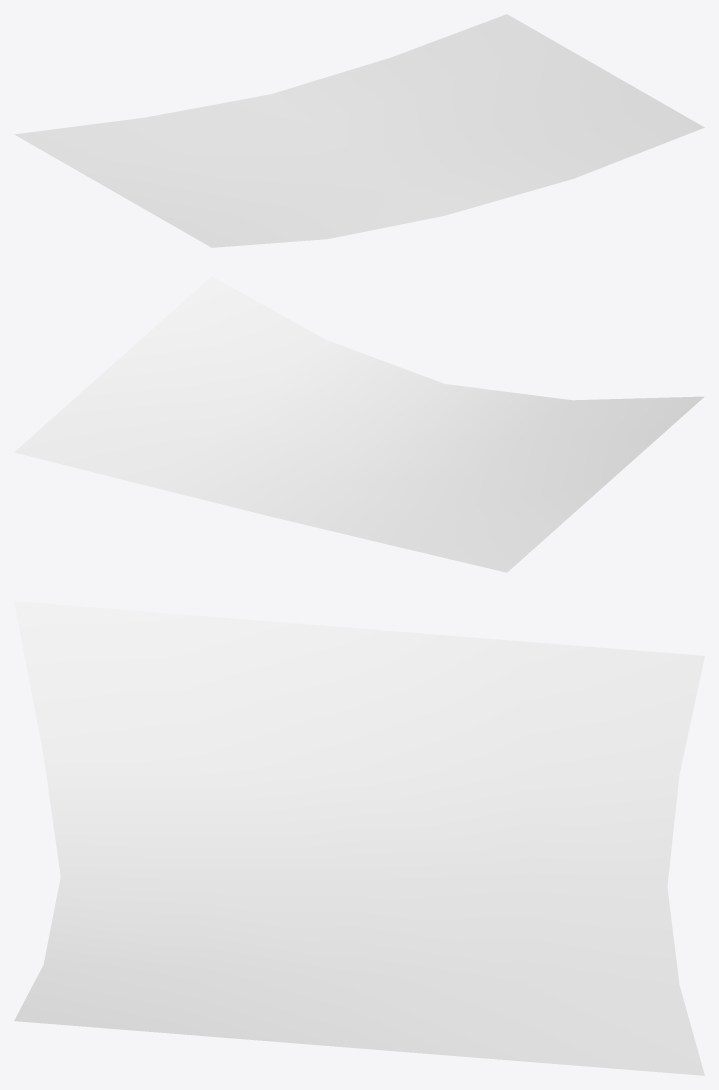
The model's file is SM_Bld_Window_Net_01.glb.
3 renders of one model, top to bottom at view 1: azimuth 30°, elevation 25°; view 2: azimuth 150°, elevation 25°; view 3: azimuth 270°, elevation 25°, orthographic. The views are drawn at different scales.
Visible parts, largest first — view 1: SM_Bld_Window_Net_01; view 2: SM_Bld_Window_Net_01; view 3: SM_Bld_Window_Net_01.
Boxes of the visible parts, box(x1,y1,x2,y2) form: SM_Bld_Window_Net_01: box(14, 14, 704, 247); SM_Bld_Window_Net_01: box(14, 276, 704, 572); SM_Bld_Window_Net_01: box(14, 601, 704, 1075).
Size of the model in its own units: 4.98 by 0.4187 by 3.46.
Materials: 1 (1 with a texture image).
